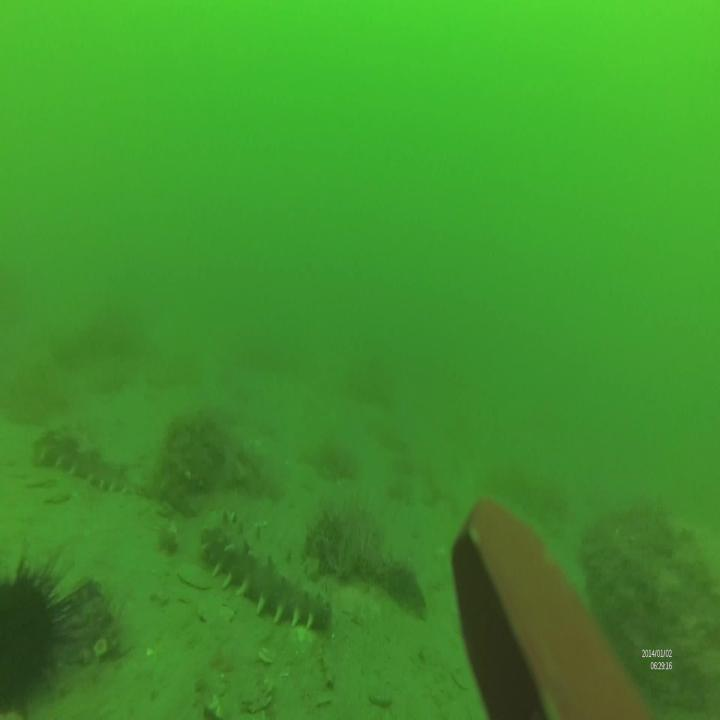echinus: (0, 547, 80, 719)
holothurian: (202, 527, 330, 634), (27, 426, 148, 499)
